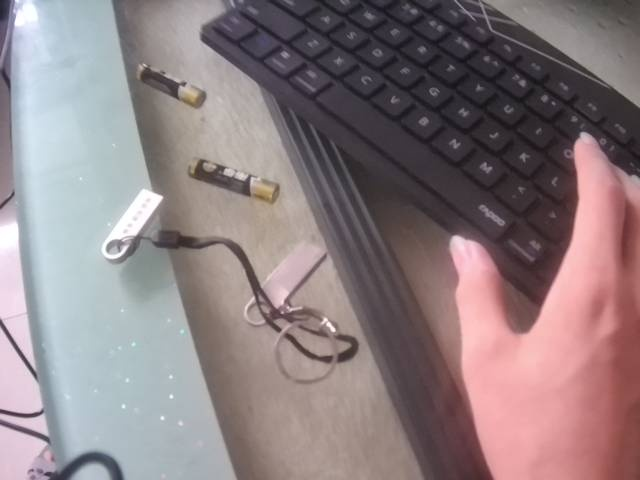U-disk: (233, 238, 344, 339), (86, 183, 174, 266)
battery: (184, 152, 284, 208), (128, 58, 209, 110)
